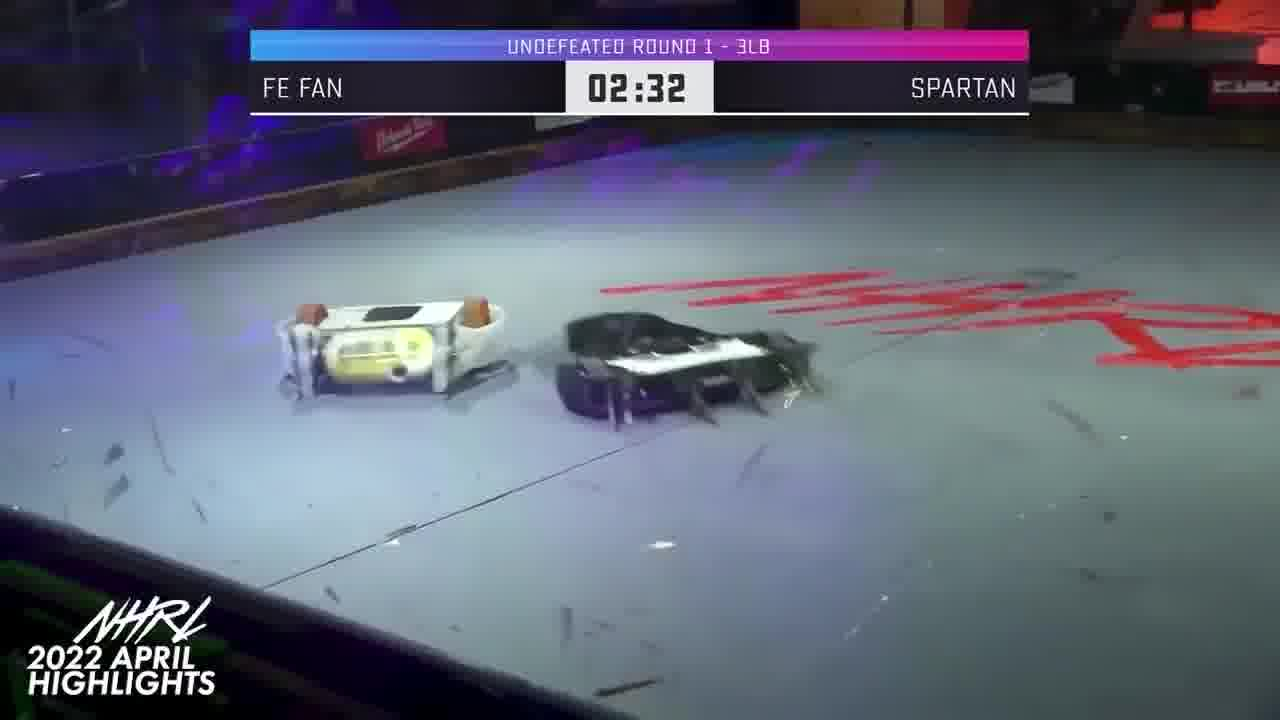combatbot: (559, 310, 816, 423), (278, 295, 513, 403)
